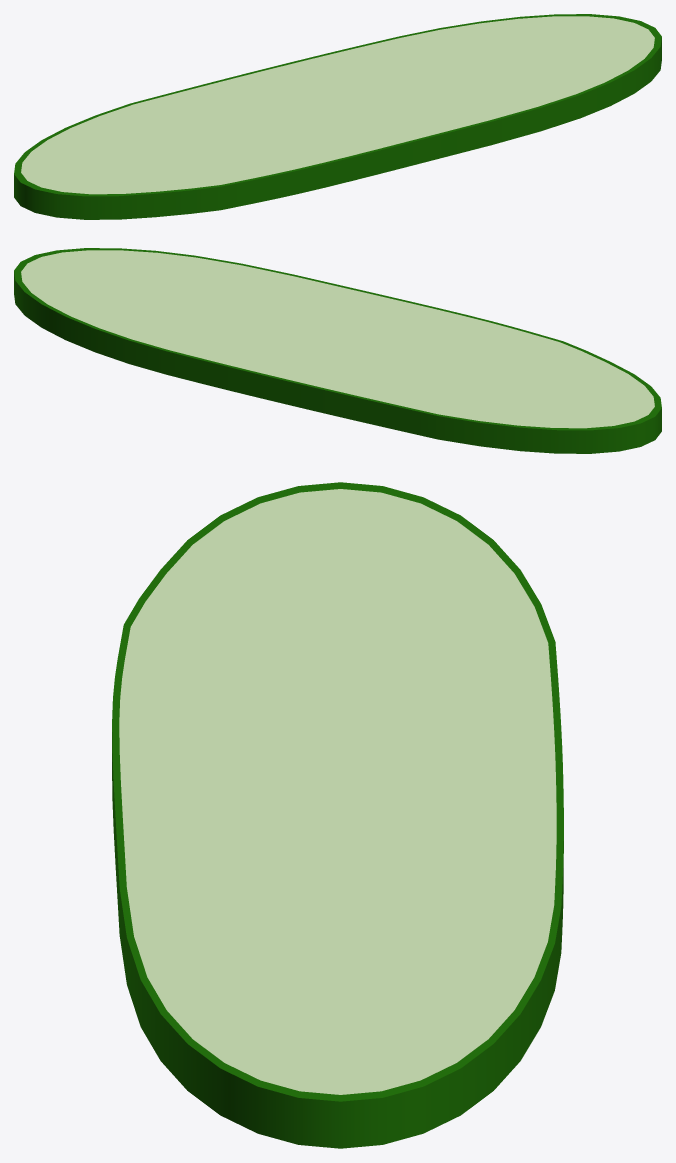
File: cucumber.fbx
3 views of the same model, one above another, from view 1: azimuth 30°, elevation 25°; view 2: azimuth 150°, elevation 25°; view 3: azimuth 270°, elevation 25° (orthographic). The views are drawn at different scales.
Visible parts, largest first — view 1: Cylinder; view 2: Cylinder; view 3: Cylinder.
Boxes of the visible parts, <box> form: Cylinder: <box>14,14,661,219</box>; Cylinder: <box>14,248,661,453</box>; Cylinder: <box>112,482,563,1148</box>.
Size of the model in its own units: 759 by 26.88 by 234.
